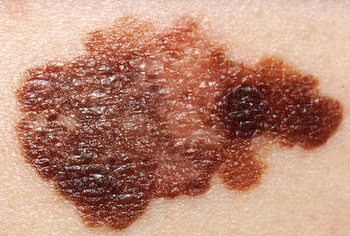melanoma: (12, 9, 344, 232)
